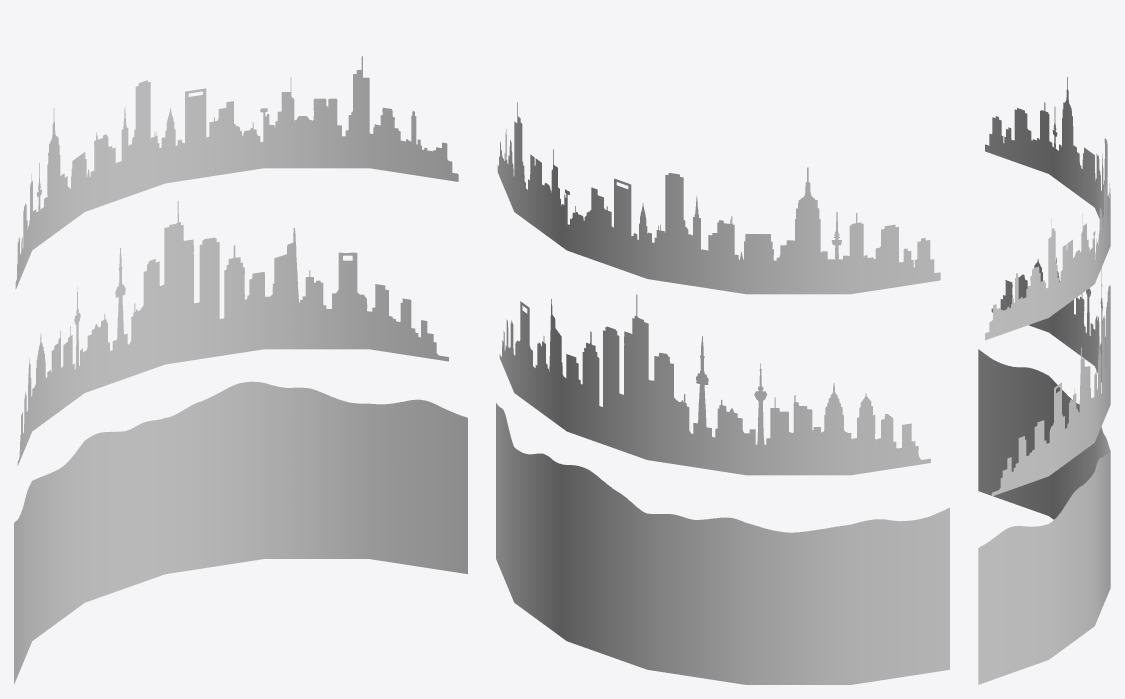
The model's file is Fondos.fbx.
3 renders of one model, left to right at view 1: azimuth 30°, elevation 25°; view 2: azimuth 150°, elevation 25°; view 3: azimuth 270°, elevation 25°, orthographic. The views are drawn at different scales.
Visible parts, largest first — view 1: montañas_fondo, Ciudad_fondo, ciudad 2; view 2: montañas_fondo, Ciudad_fondo, ciudad 2; view 3: montañas_fondo, ciudad 2, Ciudad_fondo.
Part boxes in pixels (x1=…): montañas_fondo: x1=14, y1=381, x2=467, y2=684; Ciudad_fondo: x1=17, y1=200, x2=448, y2=465; ciudad 2: x1=15, y1=56, x2=458, y2=289; montañas_fondo: x1=496, y1=403, x2=949, y2=684; Ciudad_fondo: x1=499, y1=294, x2=930, y2=475; ciudad 2: x1=497, y1=102, x2=940, y2=294; montañas_fondo: x1=978, y1=349, x2=1110, y2=684; ciudad 2: x1=985, y1=77, x2=1110, y2=340; Ciudad_fondo: x1=991, y1=257, x2=1110, y2=496.
Bounding box in the file's own units: 126 × 144 × 36.26.
